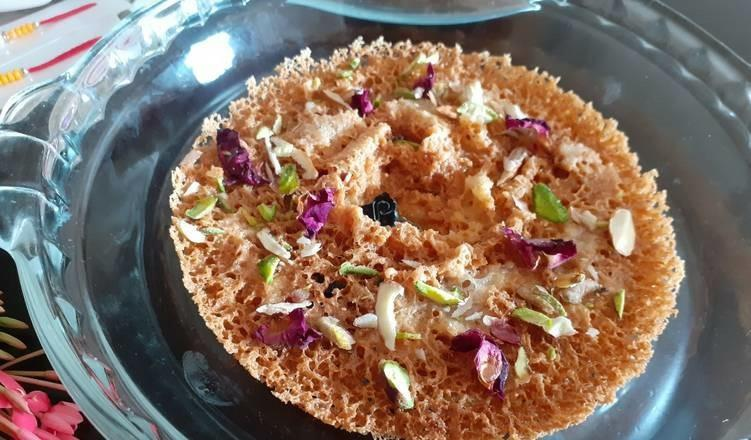Ghevar: (168, 29, 689, 440)
